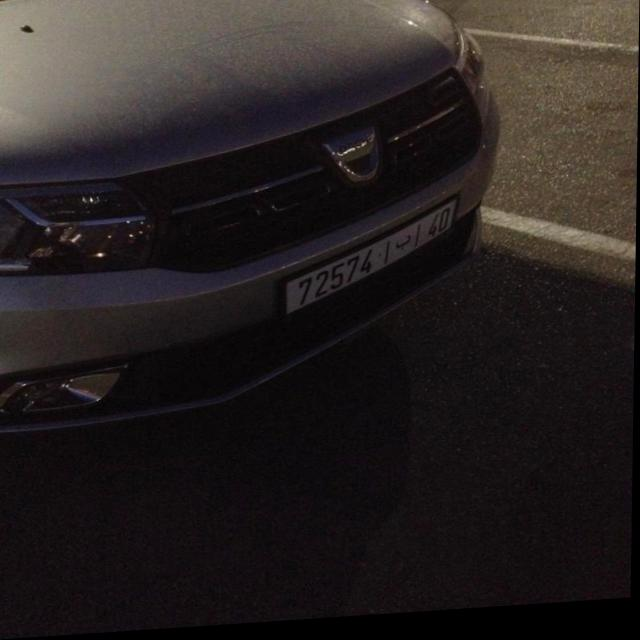License-Plate: (286, 206, 457, 317)
